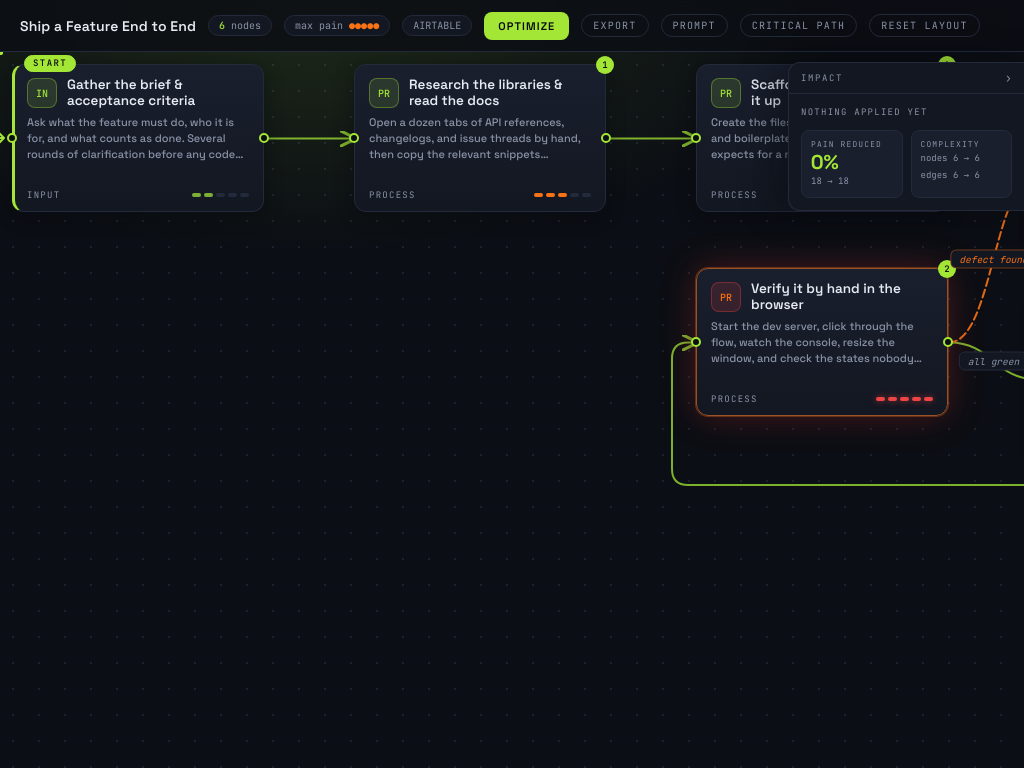
Test: closes a drawer left open, so one Escape closes only the window
Click the element with test id "sg-node" that starts with "Gather the brief & acceptance criteria": (138, 138) [12, 64, 264, 212]
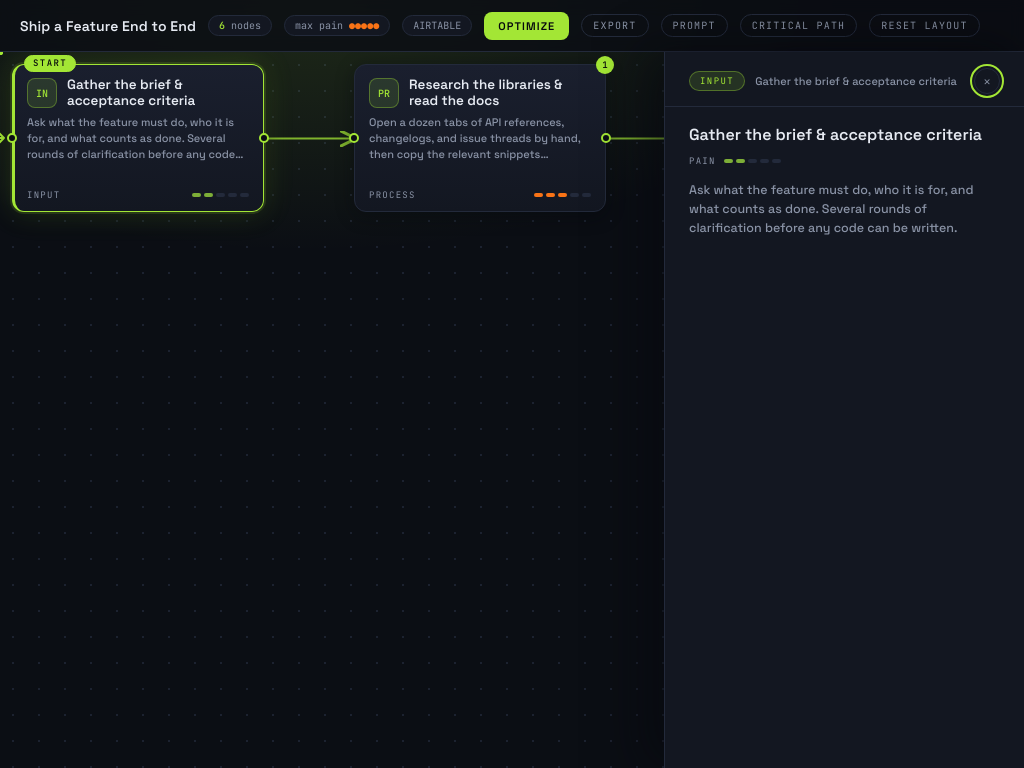
Expected: the dialog with test id "detail-drawer" is shown, [664, 52, 1023, 767]
Click the button with test id "prompt-btn": (694, 26) [660, 14, 728, 37]
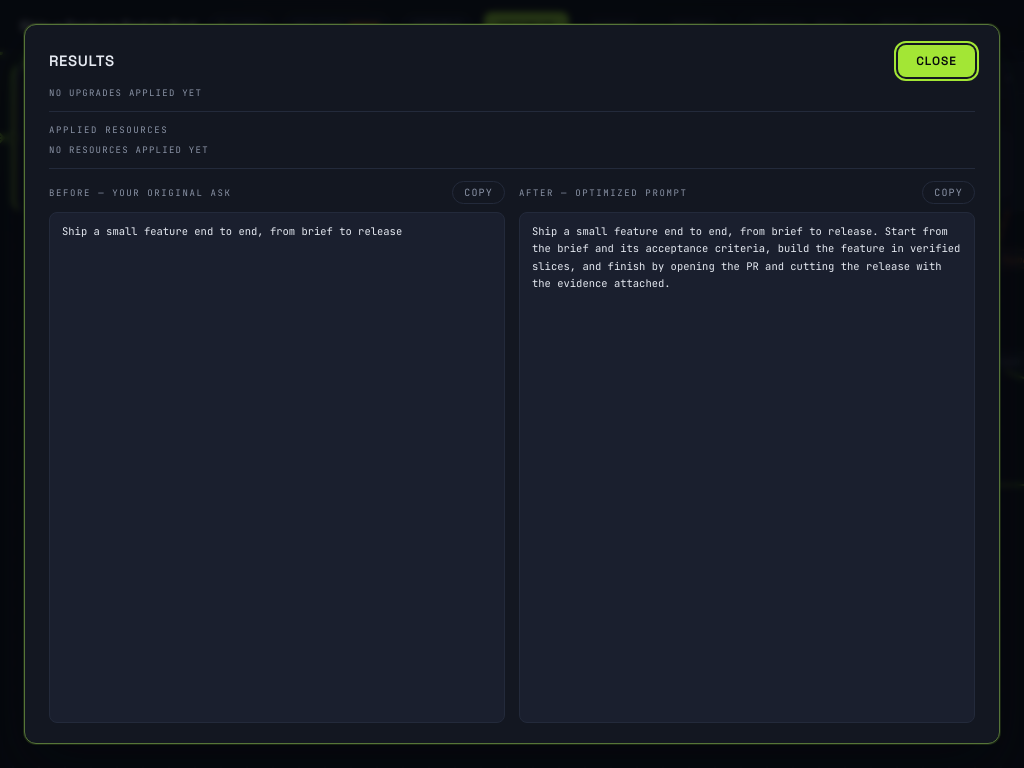
Expected: the dialog with test id "results-window" is shown
Expected: the dialog with test id "detail-drawer" is gone
Press Escape
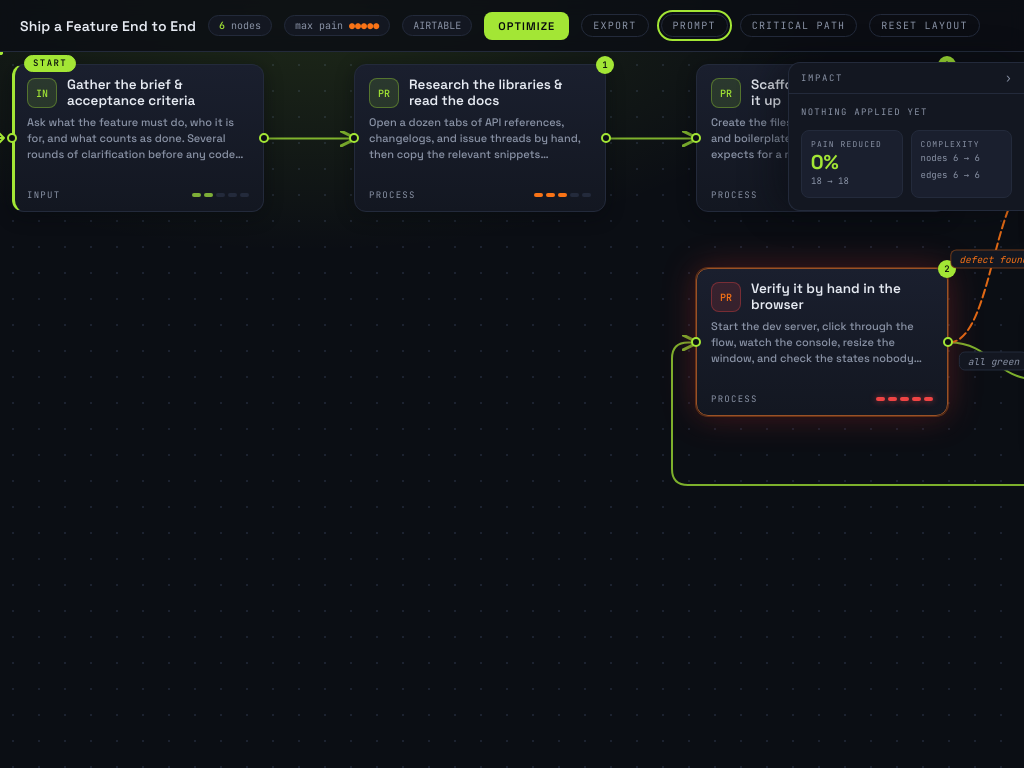
Expected: the dialog with test id "results-window" is gone
